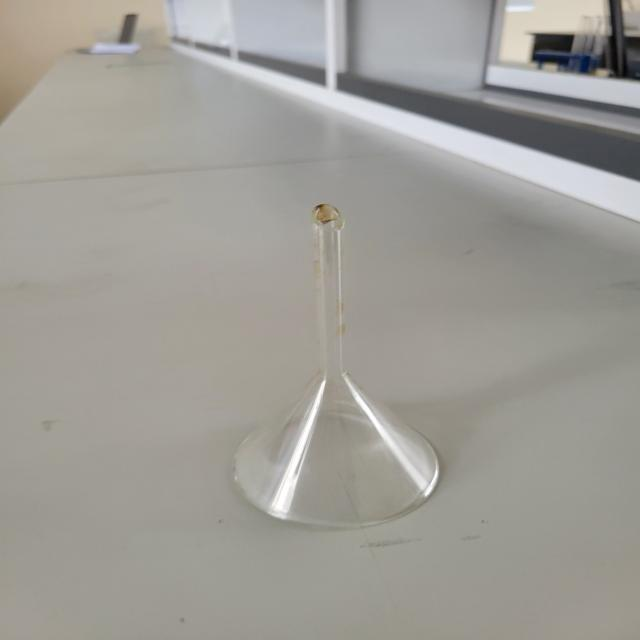Funnel: (193, 192, 512, 560)
